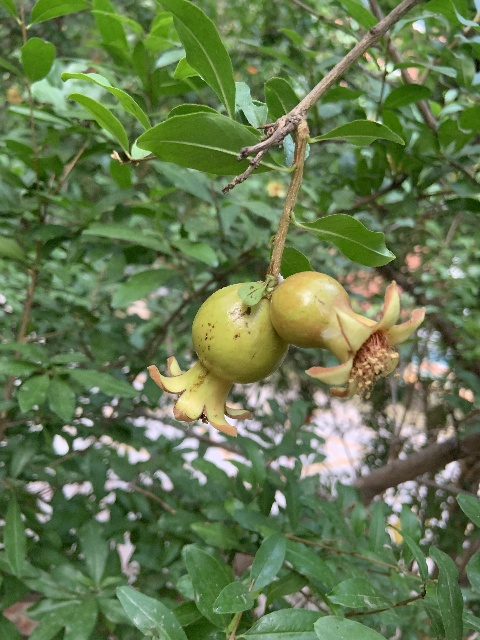early-fruit: (270, 271, 423, 402)
mid-growth: (147, 281, 287, 438)
